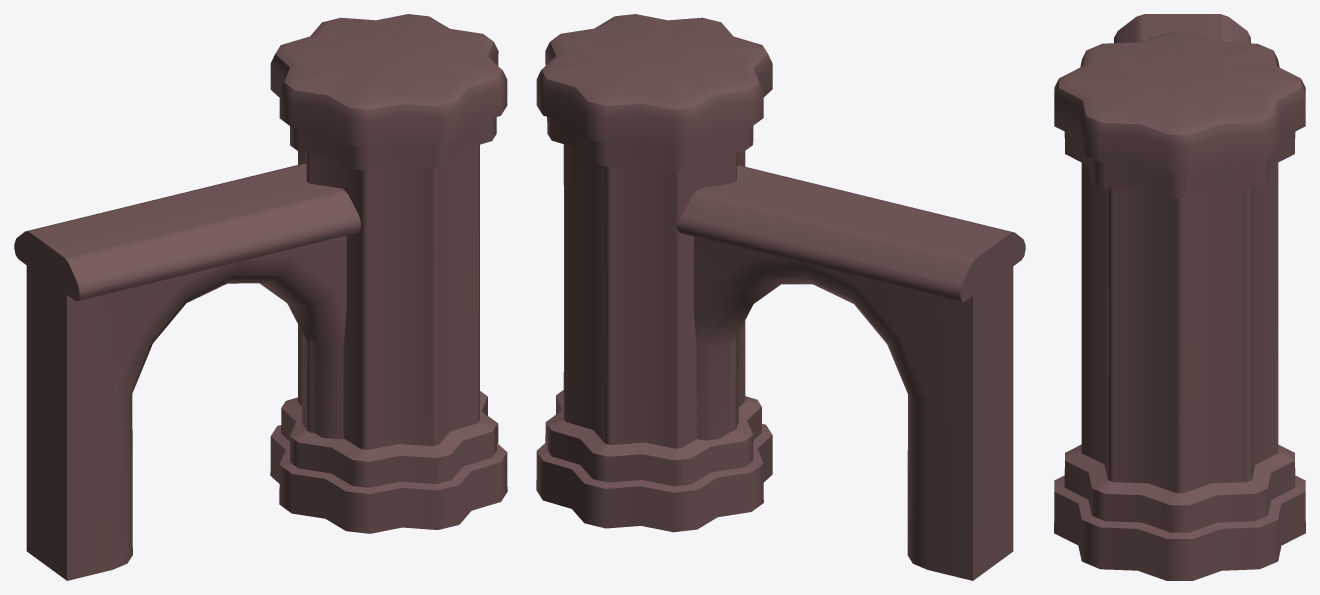
The model's file is barriere.fbx.
The picture shows the model from 3 angles, left to right: view 1: azimuth 30°, elevation 25°; view 2: azimuth 150°, elevation 25°; view 3: azimuth 270°, elevation 25°; orthographic projection. The views are drawn at different scales.
Parts seen in each view (by area): view 1: pillar_small, barrier_arch; view 2: pillar_small, barrier_arch; view 3: pillar_small, barrier_arch.
Part boxes in pixels (x1,y1,x2,y2): pillar_small: [270, 14, 507, 533]; barrier_arch: [14, 163, 360, 580]; pillar_small: [536, 14, 772, 532]; barrier_arch: [676, 165, 1025, 580]; pillar_small: [1054, 32, 1305, 580]; barrier_arch: [1114, 14, 1250, 43].
Bounding box in the file's own units: 70.51 × 64.61 × 32.82.
